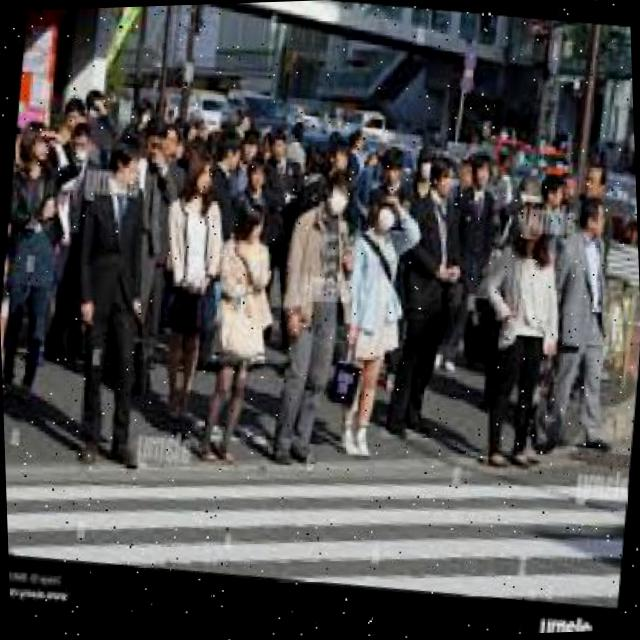Person: (51, 130, 169, 472), (255, 160, 366, 466), (462, 197, 574, 468), (374, 144, 475, 442), (326, 183, 428, 459), (0, 117, 89, 407), (189, 198, 284, 468), (142, 157, 234, 430), (536, 194, 626, 451), (433, 144, 508, 376), (362, 138, 417, 212), (225, 148, 280, 219)
